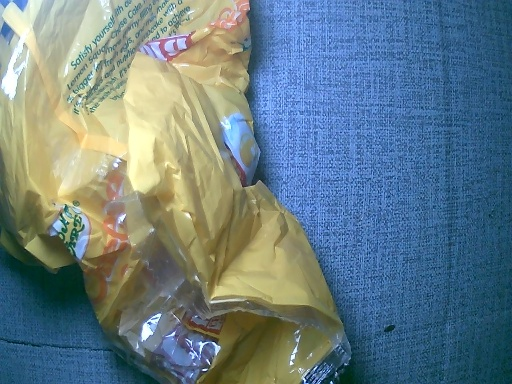plastic: (1, 1, 365, 382)
